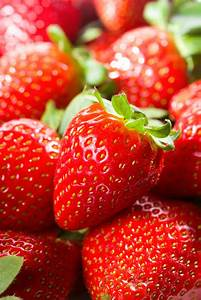Fresa: (47, 91, 169, 237)
